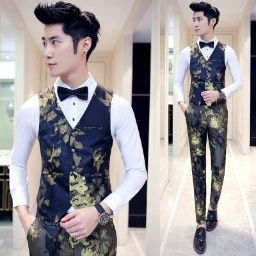face: (29, 2, 100, 80), (185, 2, 224, 37)
